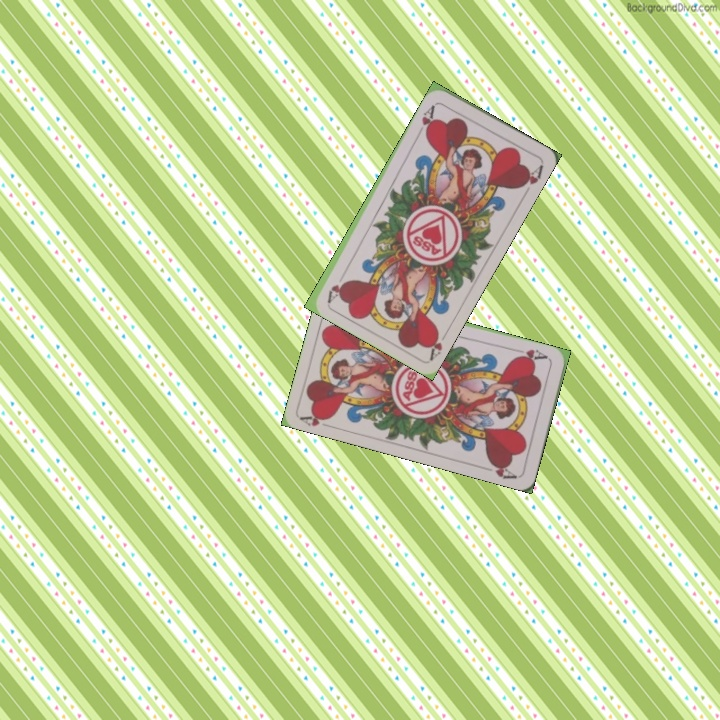HA: (424, 324, 452, 362), (298, 408, 338, 431), (417, 100, 439, 139), (511, 345, 552, 364)
